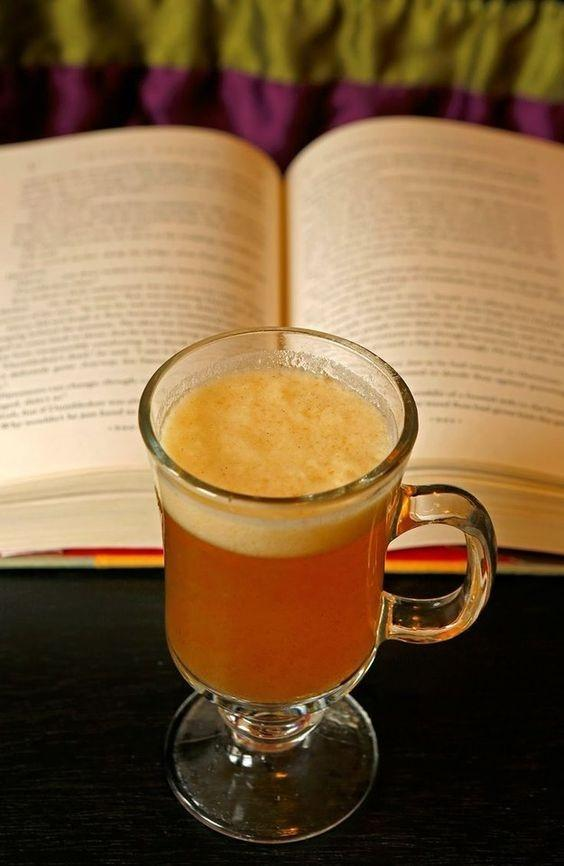glass-mug: (131, 322, 505, 846)
